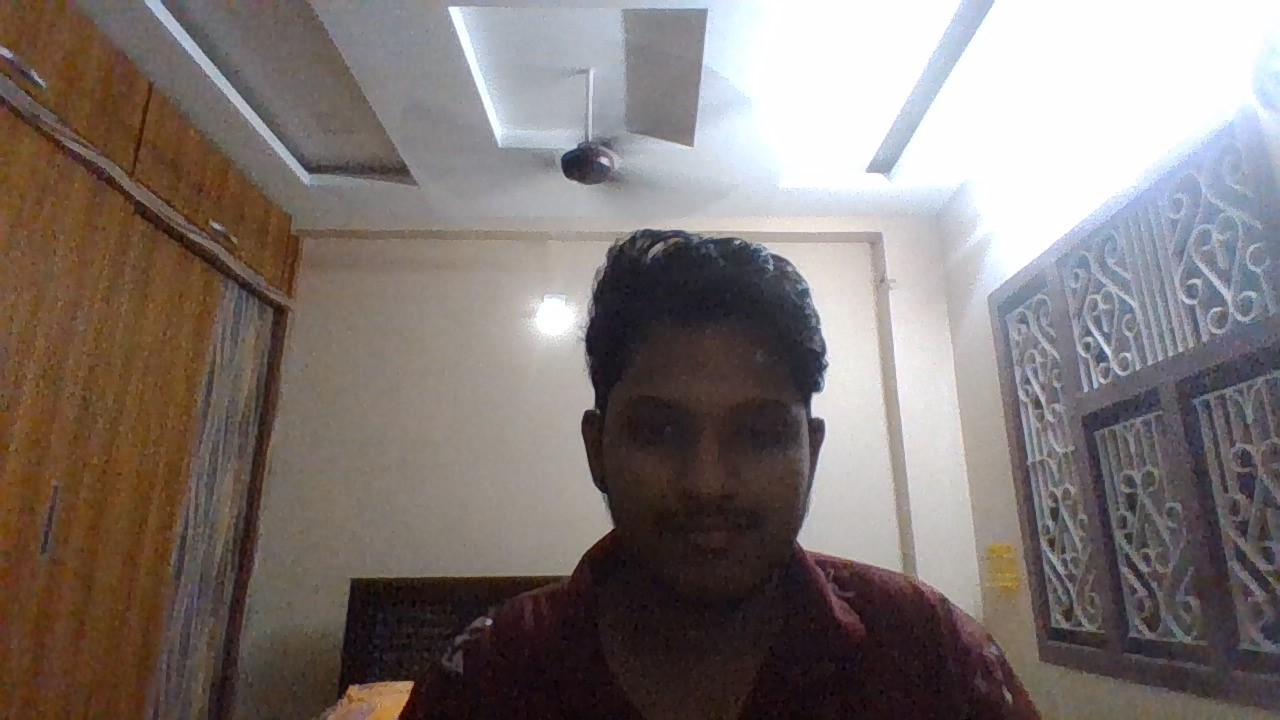person: (563, 111, 915, 665)
